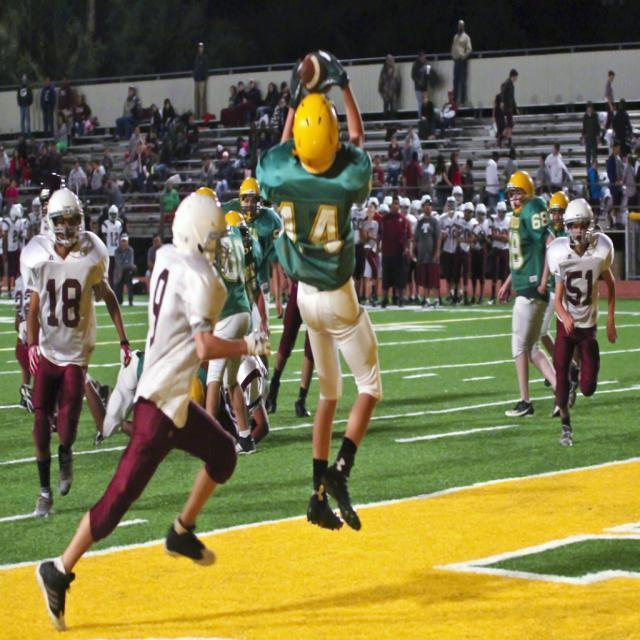ball: (299, 52, 332, 98)
